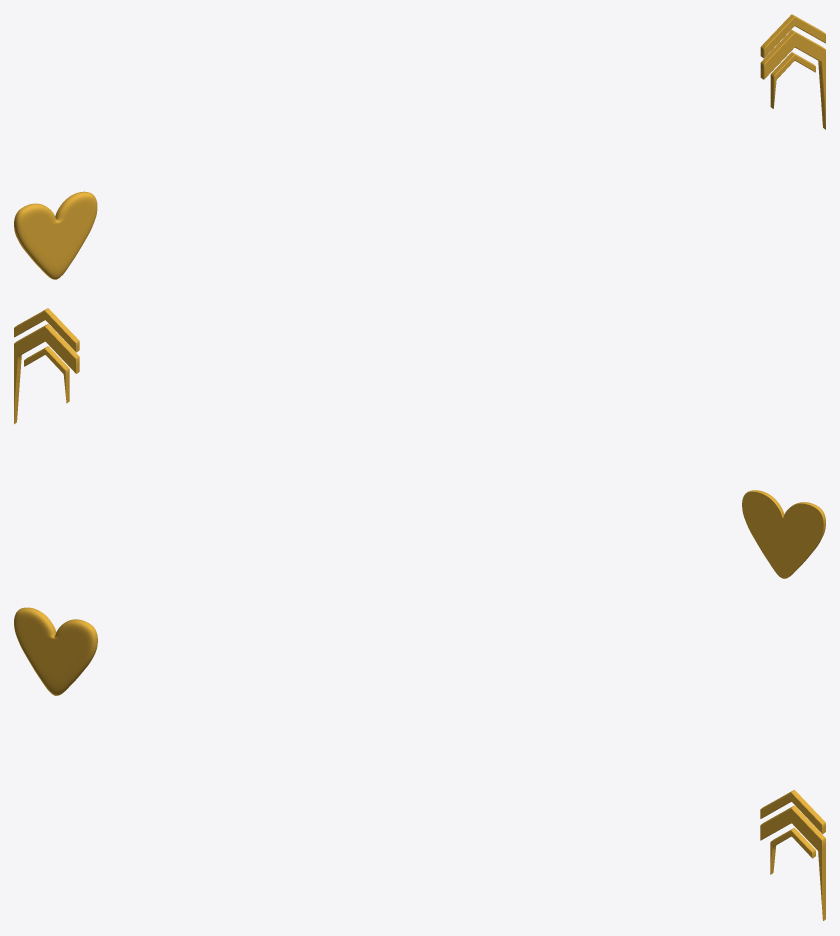
File: arrow.glb
3 renders of one model, top to bottom at view 1: azimuth 30°, elevation 25°; view 2: azimuth 150°, elevation 25°; view 3: azimuth 330°, elevation 25°, orthographic.
Visible parts, largest first — view 1: Circle.002, Colorful glowing arrow.09; view 2: Circle.002, Colorful glowing arrow.09; view 3: Circle.002, Colorful glowing arrow.09.
Boxes of the visible parts, bbox=[...] form: Circle.002: bbox=[14, 191, 97, 279]; Colorful glowing arrow.09: bbox=[760, 14, 825, 129]; Circle.002: bbox=[742, 490, 825, 578]; Colorful glowing arrow.09: bbox=[14, 308, 79, 424]; Circle.002: bbox=[14, 607, 97, 695]; Colorful glowing arrow.09: bbox=[760, 790, 825, 920].
Size of the model in its own units: 1.42 by 0.2037 by 0.0162.
